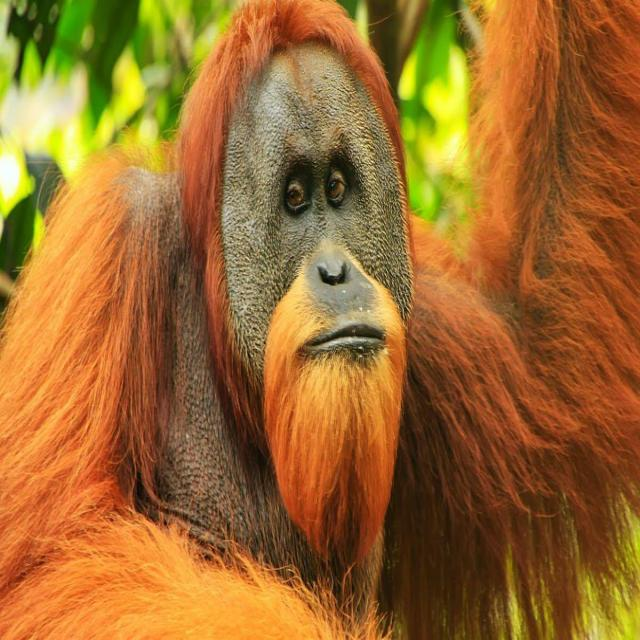Chimpanzee: (143, 11, 468, 582)
